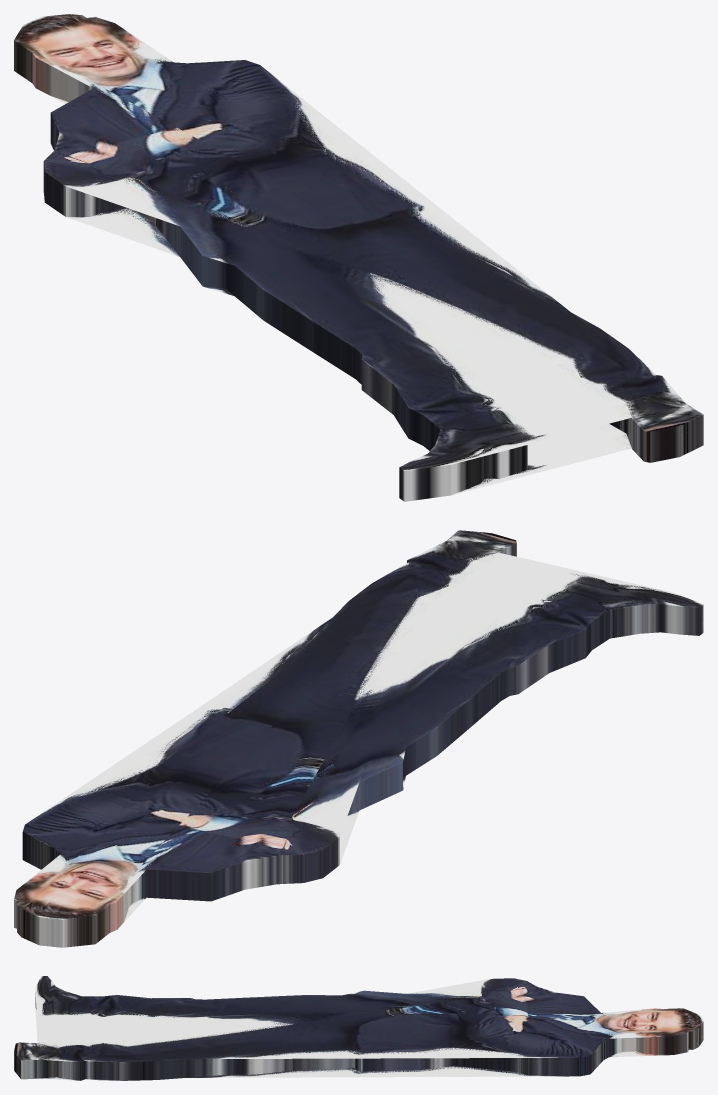
File: officeguy.fbx
The picture shows the model from 3 angles, top to bottom: view 1: azimuth 30°, elevation 25°; view 2: azimuth 150°, elevation 25°; view 3: azimuth 270°, elevation 25°; orthographic projection. The views are drawn at different scales.
Visible parts, largest first — view 1: Plane; view 2: Plane; view 3: Plane.
Part boxes in pixels (x1,y1,x2,y2): Plane: (14, 14, 703, 501); Plane: (14, 530, 703, 947); Plane: (14, 976, 703, 1080).
Bounding box in the file's own units: 138 × 20.04 × 457.
1 material, 1 textured.
